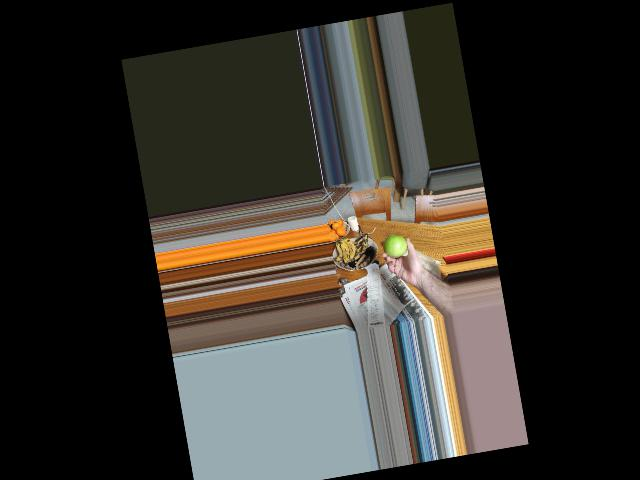apple: (381, 228, 408, 260)
